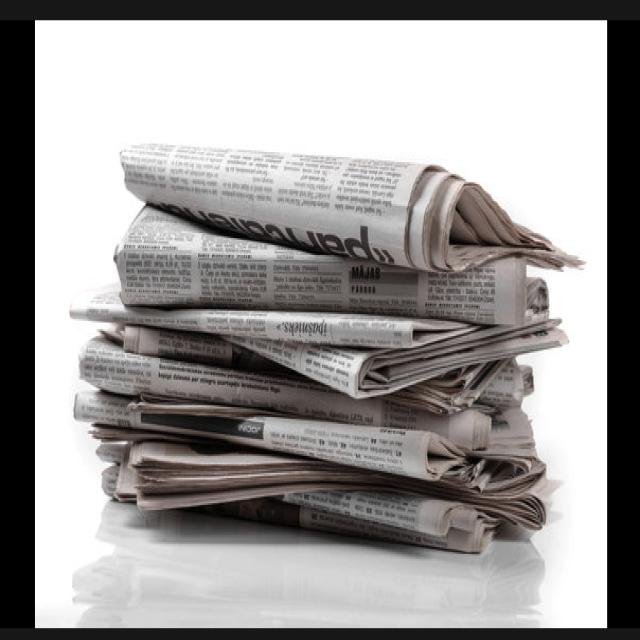Koran: (67, 140, 586, 562)
